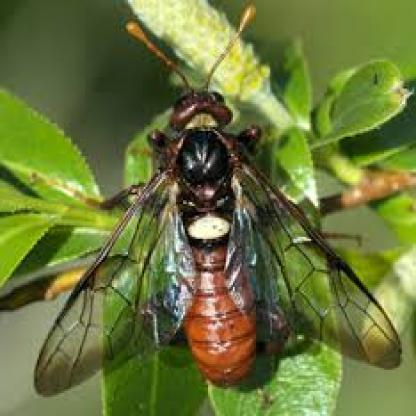sawfly: (31, 8, 410, 401)
